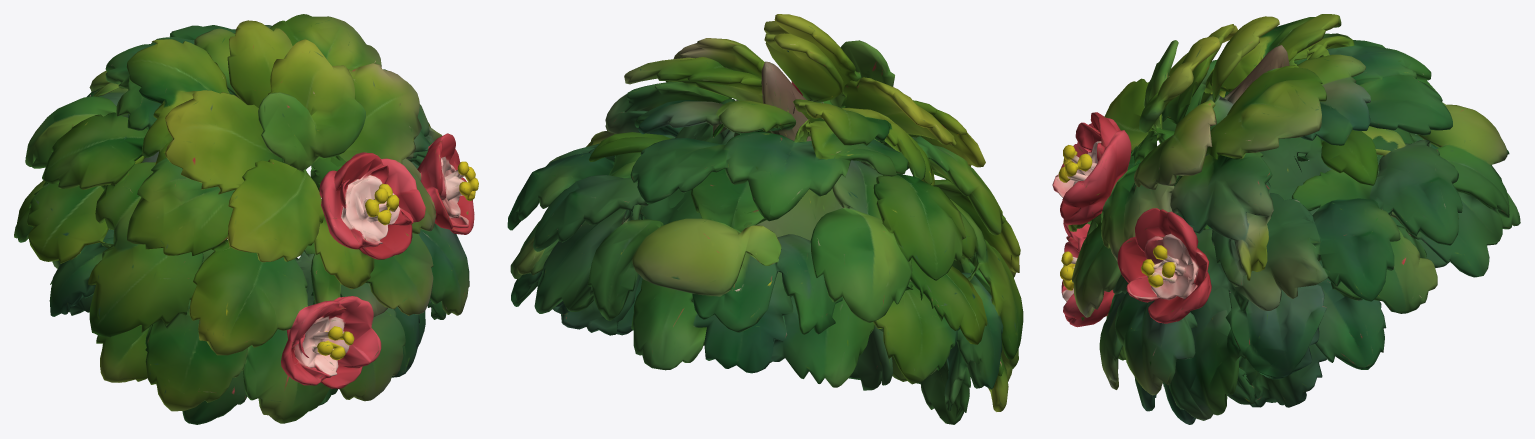
File: camellia_bush.glb
3 renders of one model, left to right at view 1: azimuth 30°, elevation 25°; view 2: azimuth 150°, elevation 25°; view 3: azimuth 270°, elevation 25°, orthographic. The views are drawn at different scales.
Bounding box in the file's own units: 1.25 × 1.05 × 1.25.
Materials: 1 (1 with a texture image).
